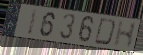3: (58, 13, 76, 41)
6: (77, 15, 96, 44), (39, 10, 57, 38)
D: (92, 17, 117, 47)
H: (112, 20, 138, 49)
I: (26, 8, 39, 37)
